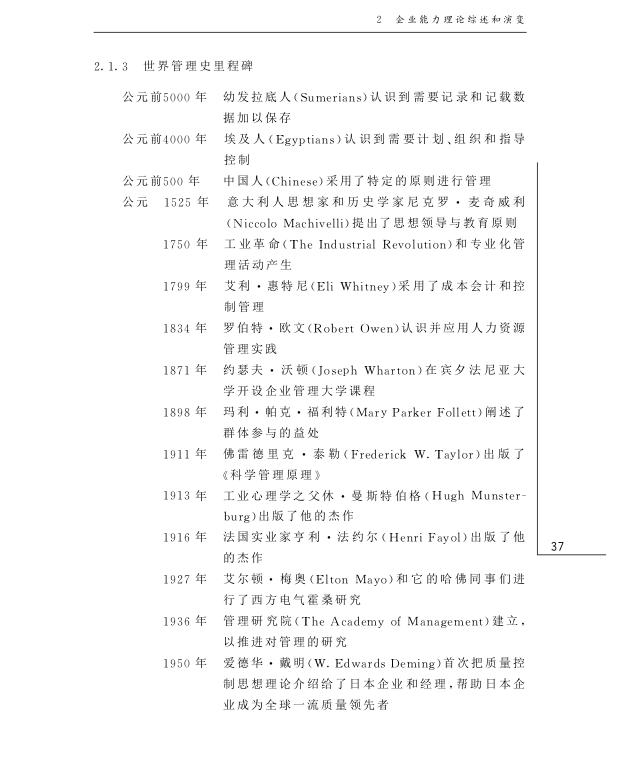table: (122, 90, 526, 710)
